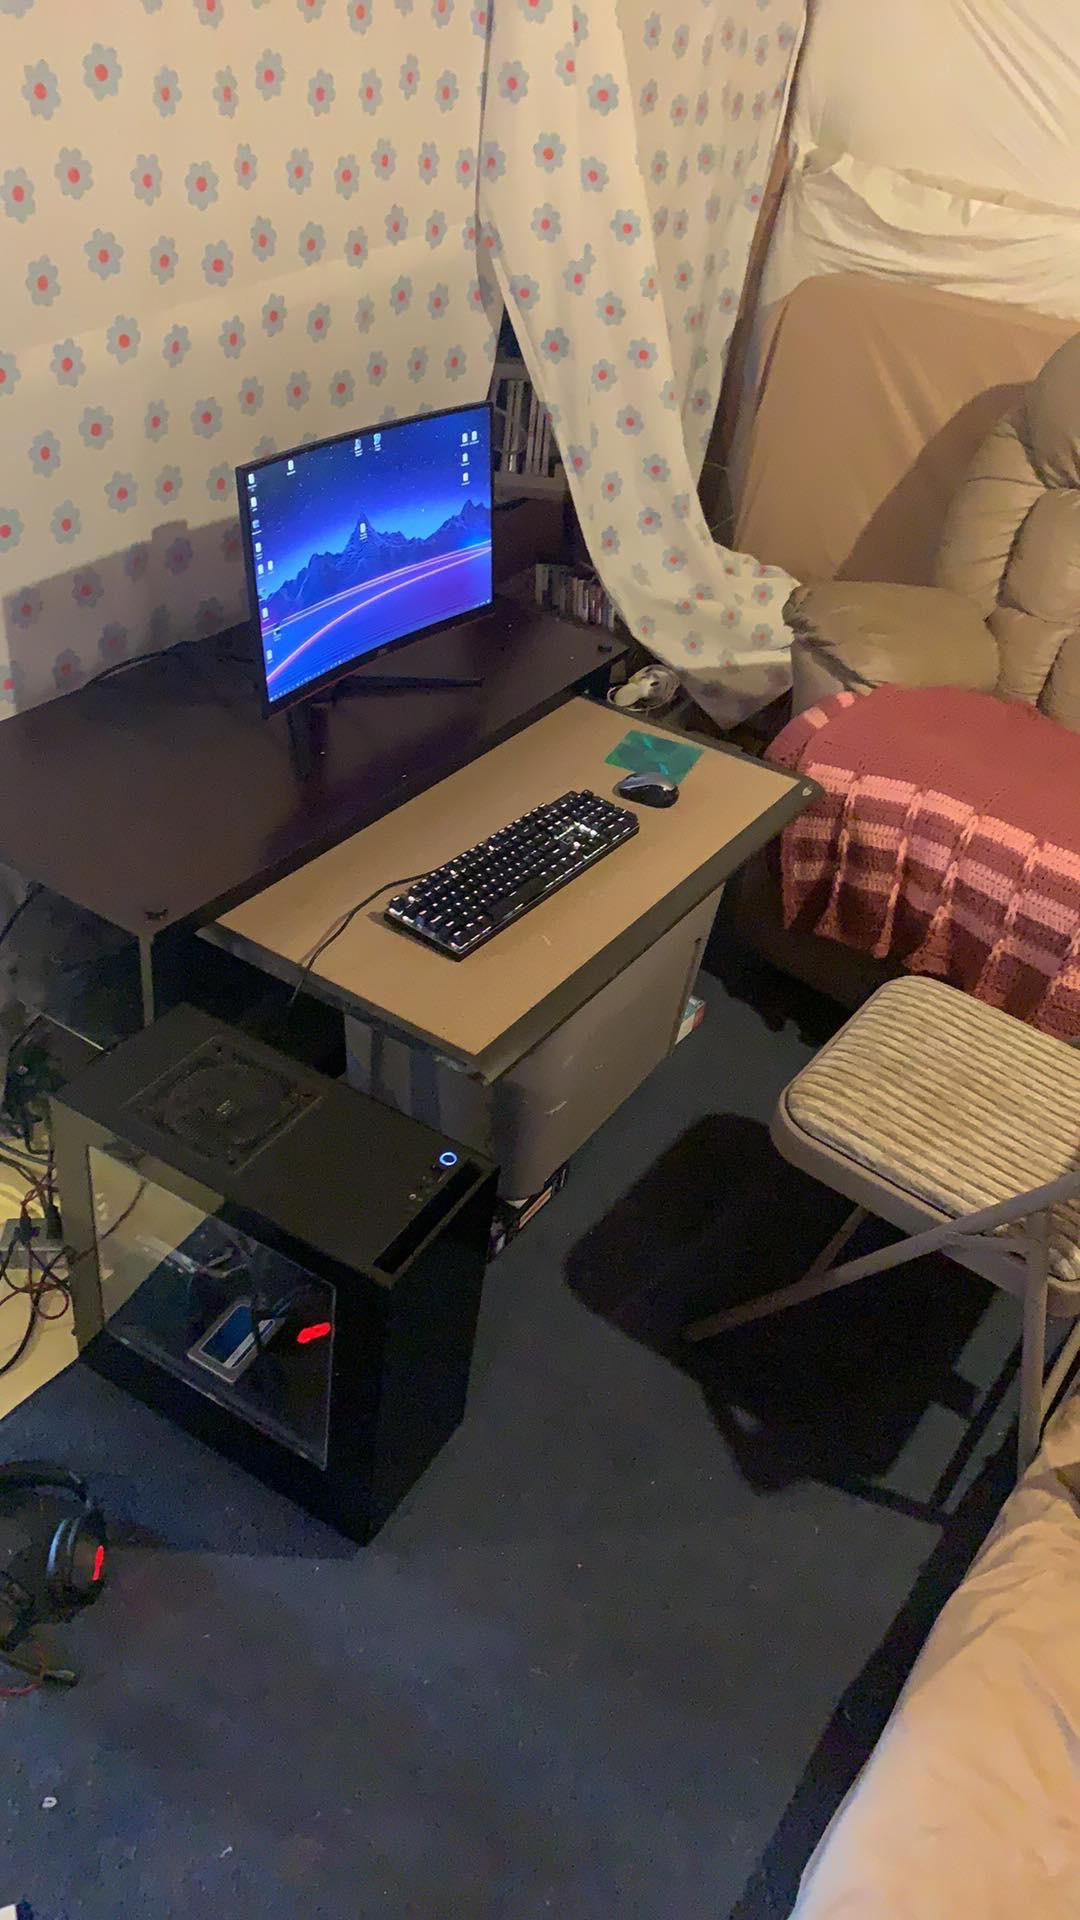Chair (Generic): (666, 996, 1080, 1369)
Desk (Generic): (1, 564, 607, 884)
Desktop (Windows): (47, 1001, 506, 1549)
Headphones: (1, 1451, 104, 1607)
Keyboard (Generic): (356, 785, 640, 967)
Monitor (Landscape): (252, 405, 504, 727)
Mouse (Generic): (607, 762, 699, 814)
